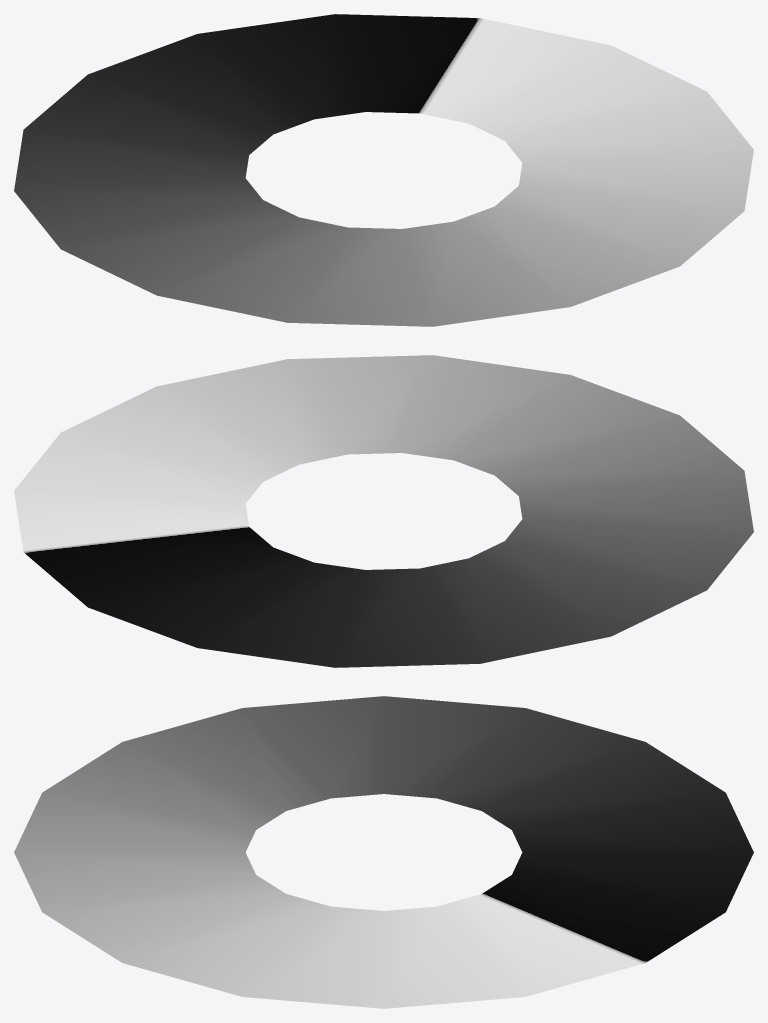
The model's file is SwordSlash_231201.fbx.
3 views of the same model, one above another, from view 1: azimuth 30°, elevation 25°; view 2: azimuth 150°, elevation 25°; view 3: azimuth 270°, elevation 25° (orthographic).
Parts seen in each view (by area): view 1: Sword; view 2: Sword; view 3: Sword.
Part boxes in pixels (left/top/right/bottom): Sword: left=14, top=14, right=753, bottom=326; Sword: left=14, top=355, right=753, bottom=667; Sword: left=14, top=696, right=753, bottom=1008.
Size of the model in its own units: 8 by 0 by 8.
